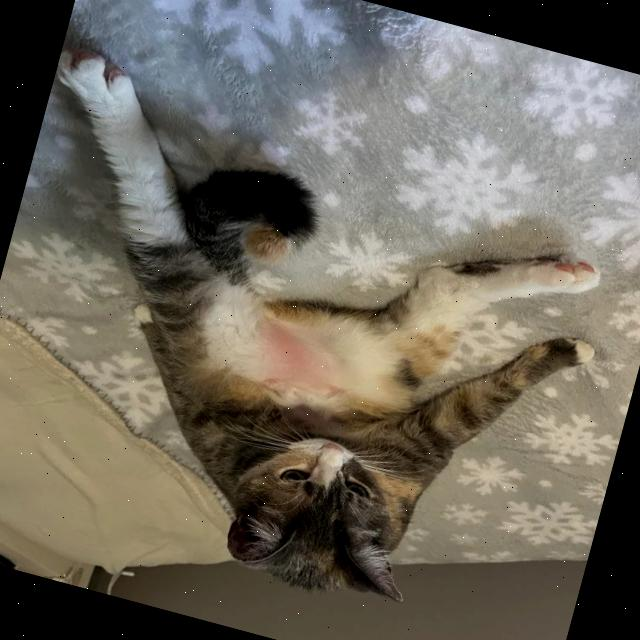cat-hairloss: (254, 312, 380, 408)
